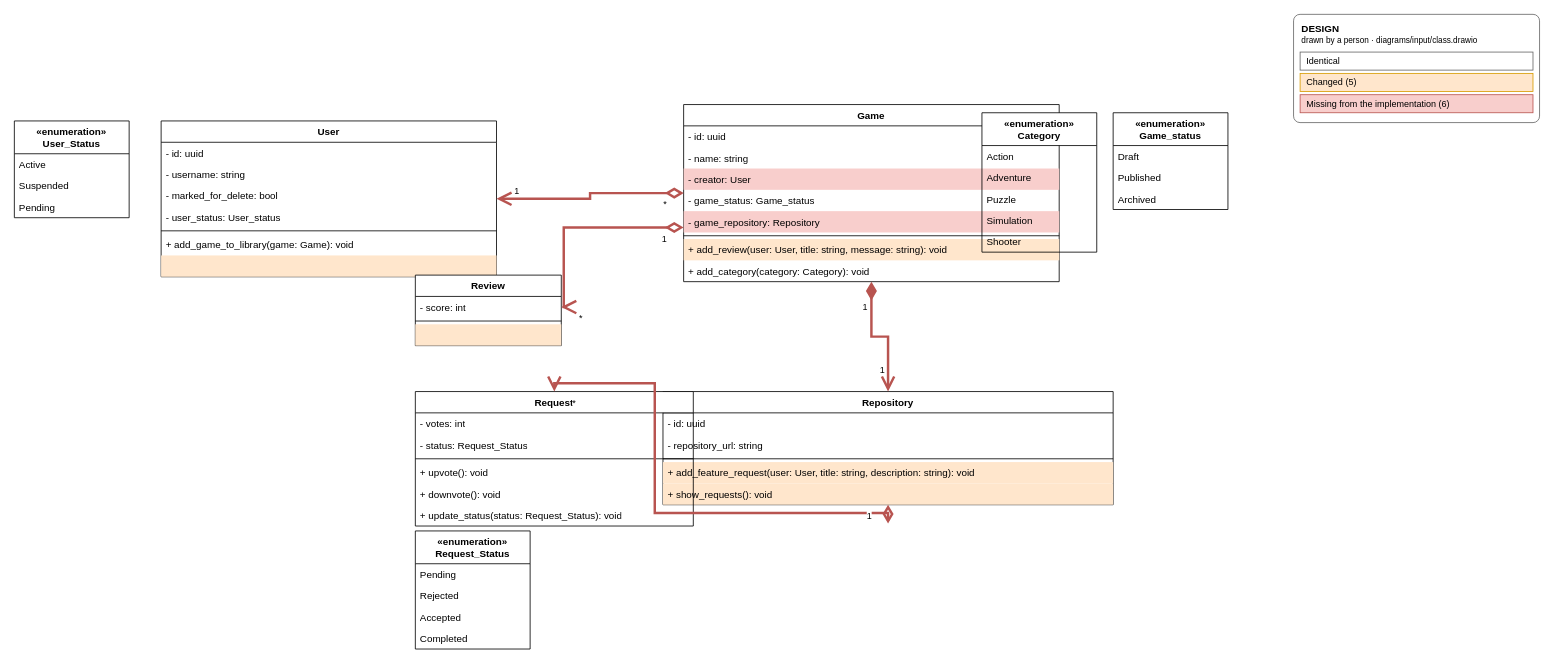
This 1554x666 diagram has some shape labels left out. The shapes that lost their labels are listed below. From the top down, each one's centre as x and y in pixels, then its label:
the point at 328,265: + create_new_game(name: string, repo_url: string): void
the point at 488,334: + update_score(): void
